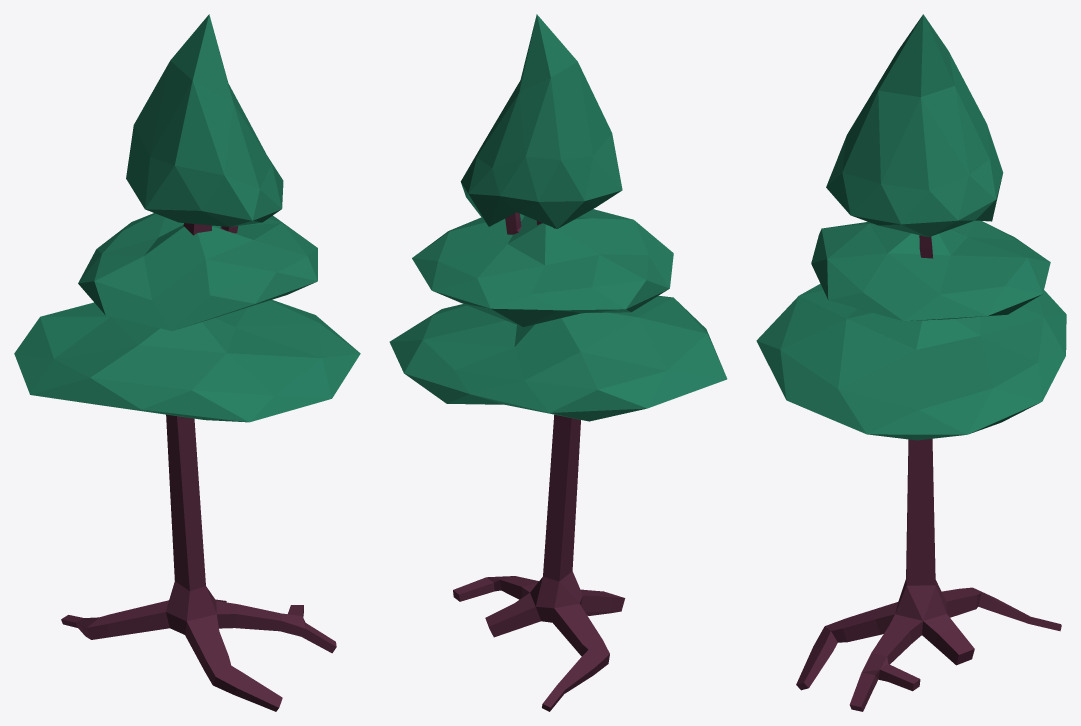
File: tree_002_grp.fbx
3 views of the same model, side by side, from view 1: azimuth 30°, elevation 25°; view 2: azimuth 150°, elevation 25°; view 3: azimuth 270°, elevation 25° (orthographic). The views are drawn at different scales.
Parts seen in each view (by area): view 1: tree_002_grp; view 2: tree_002_grp; view 3: tree_002_grp.
Boxes of the visible parts, <box> form: tree_002_grp: <box>14,14,360,711</box>; tree_002_grp: <box>389,14,727,711</box>; tree_002_grp: <box>756,14,1066,711</box>.
Bounding box in the file's own units: 600 × 1197 × 500.
